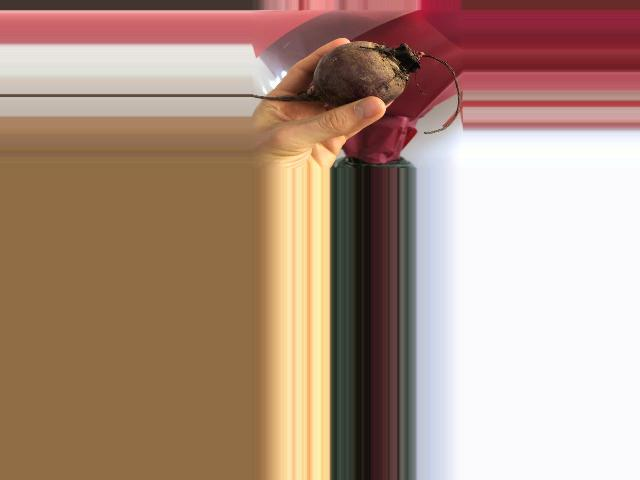beet: (252, 41, 461, 134)
